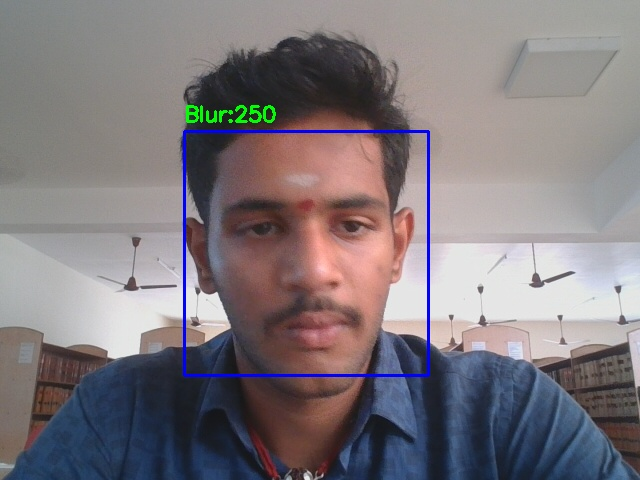real: (184, 131, 428, 375)
